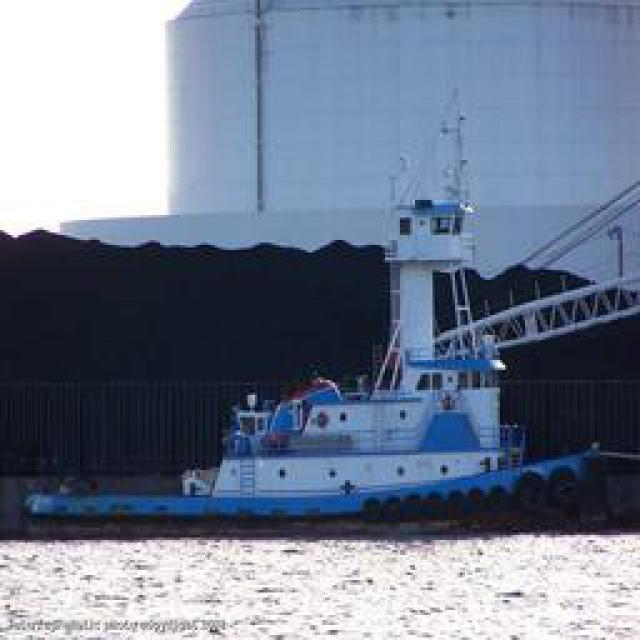Ship: (25, 365, 620, 533)
